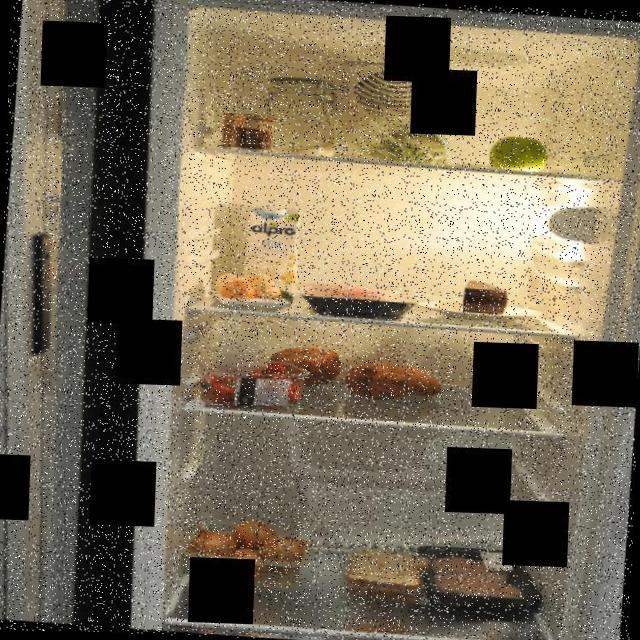Carne pollo: (408, 540, 547, 622)
Cebolla: (185, 514, 312, 586)
Huevos: (210, 268, 282, 312)
Leche: (240, 200, 304, 304)
Manzana: (482, 129, 556, 178)
Queso: (459, 276, 508, 315)
